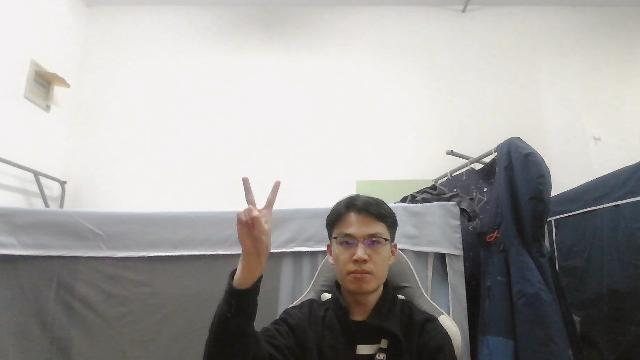two: (234, 176, 284, 254)
